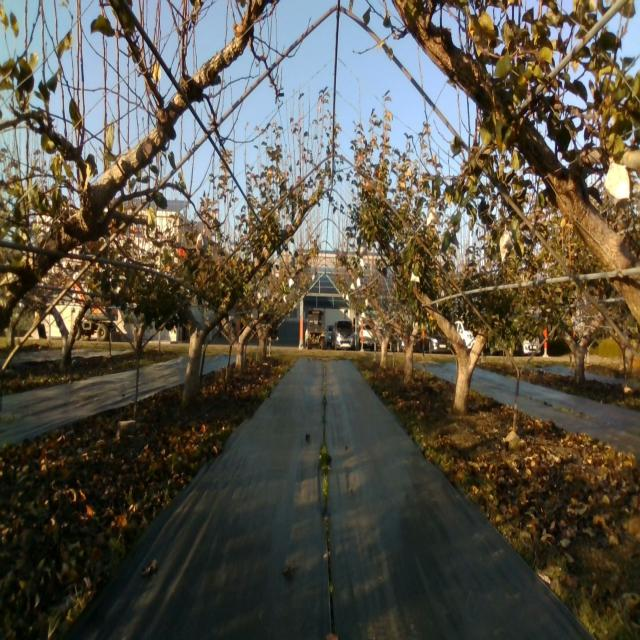pearbags: (604, 156, 630, 207), (500, 223, 514, 263), (196, 229, 208, 257), (426, 206, 441, 228)
